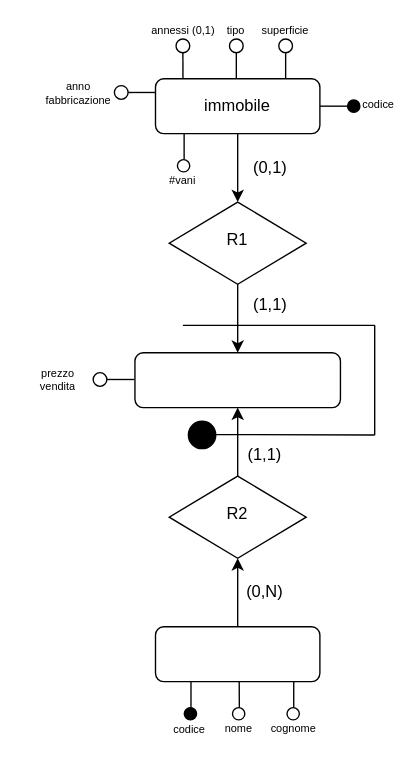
The diagram is 418 pixels wide and 759 high, and some of its shapes have lost their labels. Each missing label, with the centre of its shape:
"possedimento_immobile" belongs at point 237,379.
"proprietario" belongs at point 237,653.
